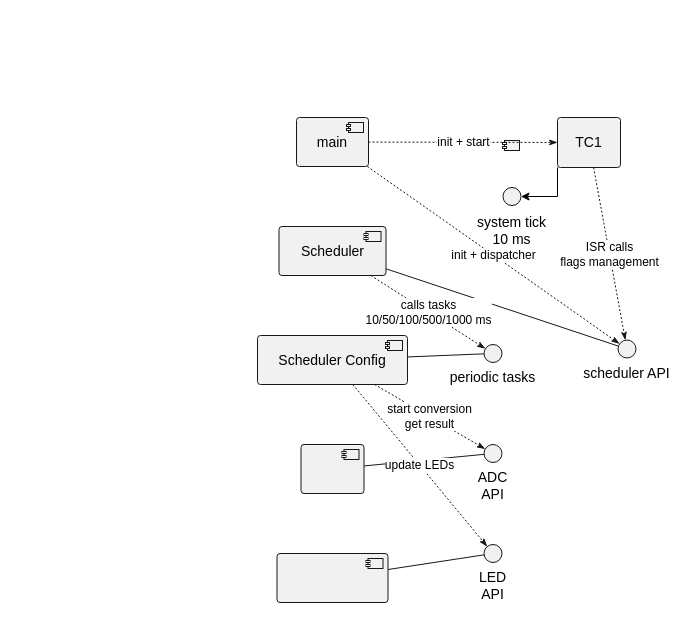
Image size: 692x620. Some labels were removed from this diagram. Here are the shapes that lost their labels. From the top down, the centre of each, then its label:
(x=332, y=469): ADC
(x=332, y=577): LED Driver
